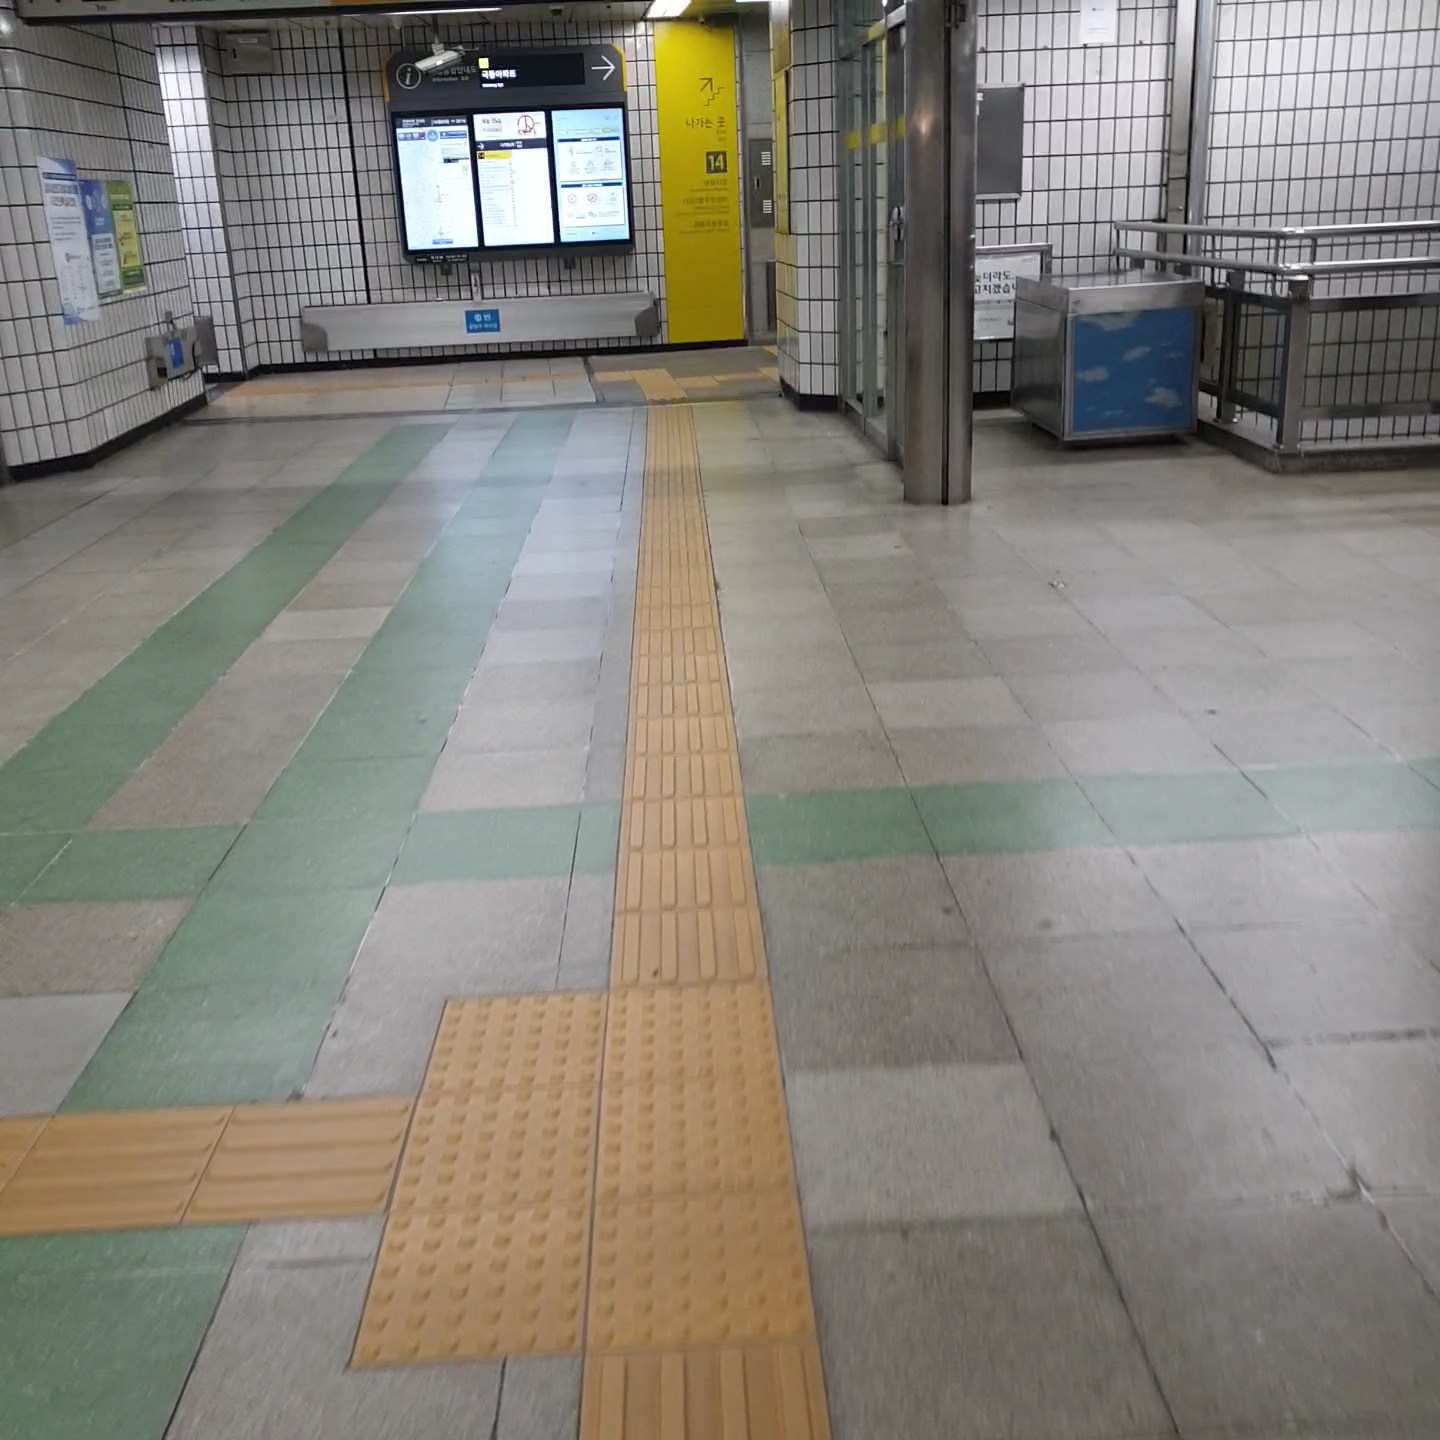dot: (359, 1207, 588, 1369), (588, 1189, 812, 1353), (415, 1087, 593, 1205), (597, 1087, 794, 1193), (597, 986, 789, 1095), (443, 992, 601, 1093)
line: (204, 1098, 400, 1229), (4, 1106, 193, 1232), (612, 906, 770, 986), (618, 848, 752, 915), (621, 802, 756, 851), (625, 757, 742, 802), (624, 715, 738, 754), (628, 680, 732, 717), (628, 655, 727, 686)
